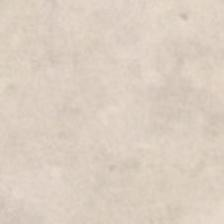Non_Crack: (31, 18, 200, 184)
